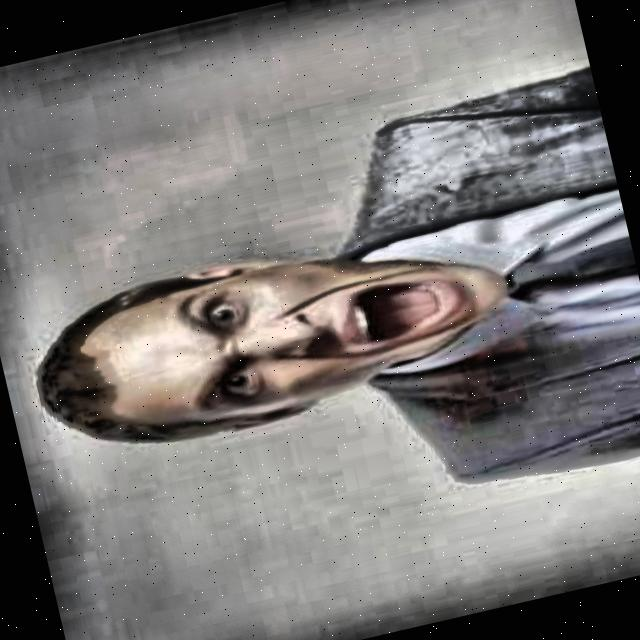angry: (8, 197, 524, 478)
